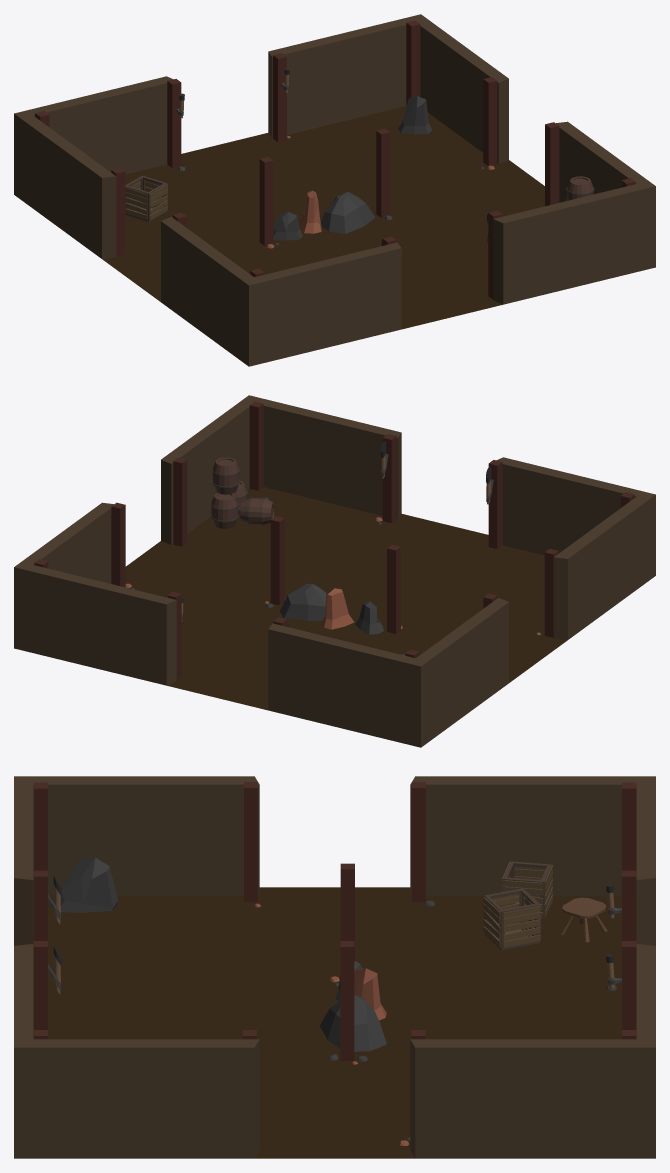
Rendered from RoomBen4.fbx.
The picture shows the model from 3 angles, top to bottom: view 1: azimuth 30°, elevation 25°; view 2: azimuth 150°, elevation 25°; view 3: azimuth 270°, elevation 25°; orthographic projection. The views are drawn at different scales.
Parts seen in each view (by area): view 1: Room1.001, RoomFloor.003, Crate.003, LargeRock1.008, Support.021, Support.023, Support.022, Support.015, Support.025, Support.014, Support.019, LargeRock1.006 (+5 smaller); view 2: Room1.001, RoomFloor.003, LargeRock1.008, Support.018, Support.023, Support.025, Support.021, Support.022, Support.013, Support.012, Support.024, Barrel.003 (+5 smaller); view 3: Room1.001, RoomFloor.003, Crate.003, LargeRock1.011, LargeRock1.008, Crate.002, Support.020, Support.023, Support.024, Support.014, Support.017, Support.012 (+6 smaller).
Boxes of the visible parts, box(x1,y1,x2,y2) form: Room1.001: box(14, 14, 655, 366); RoomFloor.003: box(102, 106, 544, 329); Crate.003: box(125, 175, 167, 221); LargeRock1.008: box(321, 191, 375, 233); Support.021: box(483, 77, 497, 165); Support.023: box(376, 128, 390, 217); Support.022: box(259, 157, 273, 245); Support.015: box(167, 79, 181, 167); Support.025: box(545, 122, 559, 206); Support.014: box(273, 53, 286, 142); Support.019: box(406, 20, 420, 105); LargeRock1.006: box(398, 96, 432, 134); Room1.001: box(14, 395, 655, 747); RoomFloor.003: box(125, 487, 567, 710); LargeRock1.008: box(280, 583, 326, 620); Support.018: box(249, 401, 263, 490); Support.023: box(270, 516, 284, 605); Support.025: box(173, 457, 187, 546); Support.021: box(111, 502, 125, 587); Support.022: box(387, 544, 400, 633); Support.013: box(488, 460, 502, 549); Support.012: box(382, 434, 396, 523); Support.024: box(544, 548, 558, 637); Barrel.003: box(212, 457, 239, 494); Room1.001: box(14, 776, 655, 1158); RoomFloor.003: box(33, 887, 636, 1158); Crate.003: box(483, 888, 540, 950); LargeRock1.011: box(49, 857, 118, 912); LargeRock1.008: box(319, 995, 386, 1051); Crate.002: box(501, 861, 552, 920); Support.020: box(411, 782, 425, 901); Support.023: box(340, 941, 354, 1060); Support.024: box(244, 782, 257, 901); Support.014: box(622, 941, 636, 1029); Support.017: box(622, 782, 636, 870); Support.012: box(34, 941, 47, 1029).
Size of the model in its own units: 796 by 181 by 796.
